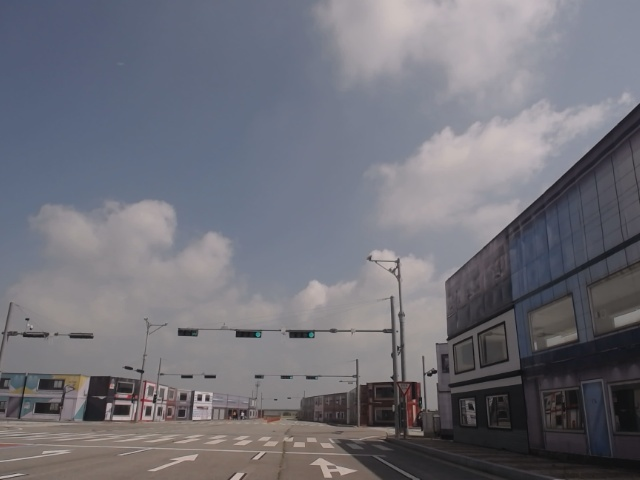straight_green_4: (236, 329, 263, 339), (290, 330, 316, 339)
